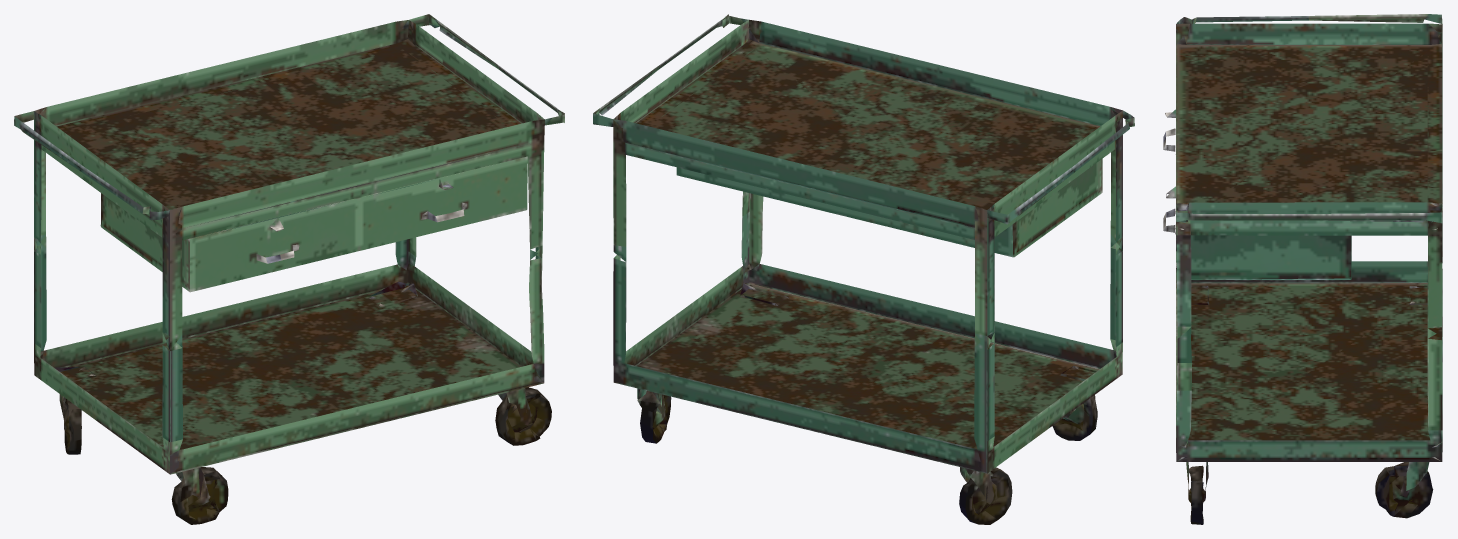
Rendered from tool_cart.glb.
The picture shows the model from 3 angles, left to right: view 1: azimuth 30°, elevation 25°; view 2: azimuth 150°, elevation 25°; view 3: azimuth 270°, elevation 25°; orthographic projection. The views are drawn at different scales.
Parts seen in each view (by area): view 1: mesh; view 2: mesh; view 3: mesh.
Boxes of the visible parts, left/top/right/bottom form: mesh: left=14, top=14, right=564, bottom=524; mesh: left=593, top=14, right=1134, bottom=524; mesh: left=1163, top=14, right=1442, bottom=524.
Bounding box in the file's own units: 1.27 × 0.9646 × 0.7522.
Materials: 1 (1 with a texture image).
